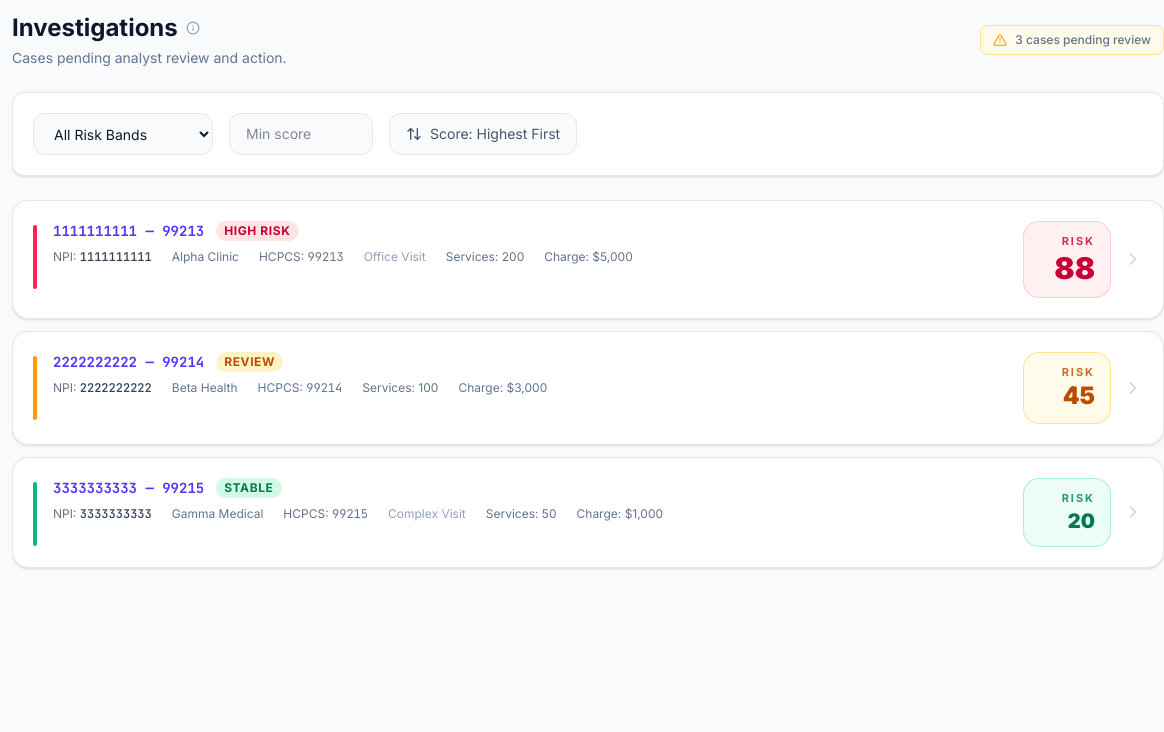
Test case: Investigations › filtering by review band re-fetches with risk_band param
Expected: the text "Beta Health" is shown, 172,380 -> 238,396
Select "Review" in the dropdown at (123, 134), box 33,113 -> 213,155
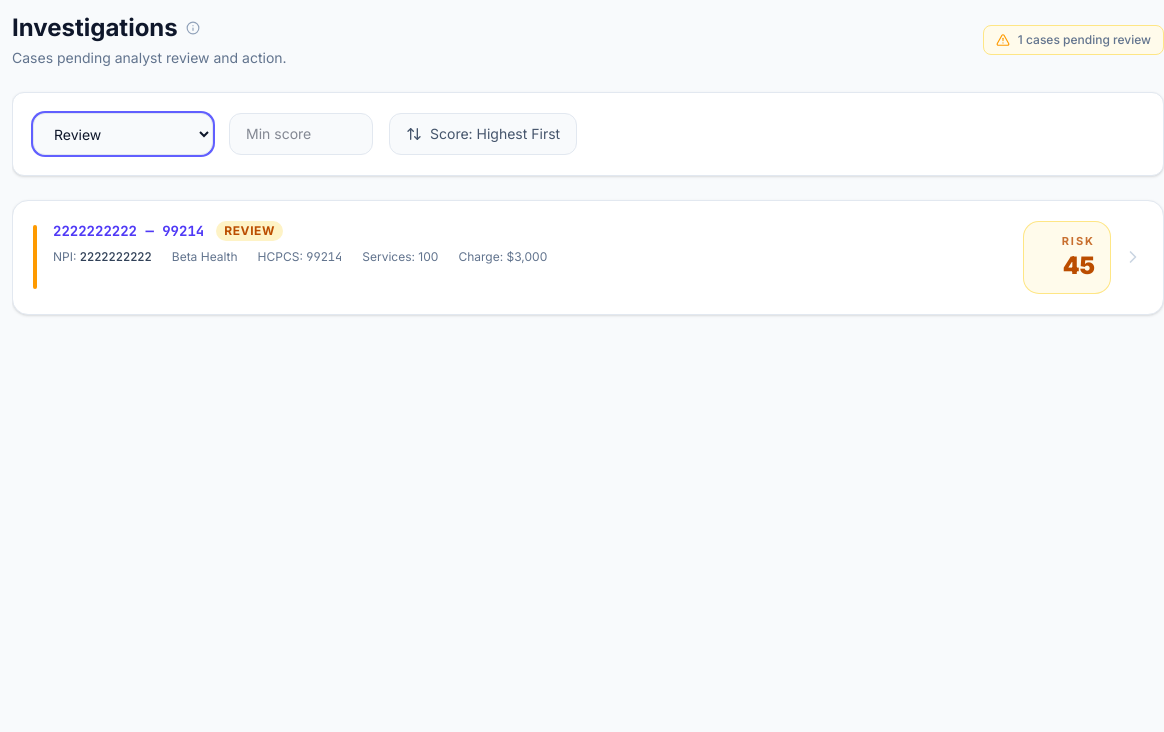
Expected: the text "Beta Health" is shown, 172,249 -> 238,265
Expected: the link "Alpha Clinic" is gone
Expected: the link "Gamma Medical" is gone
